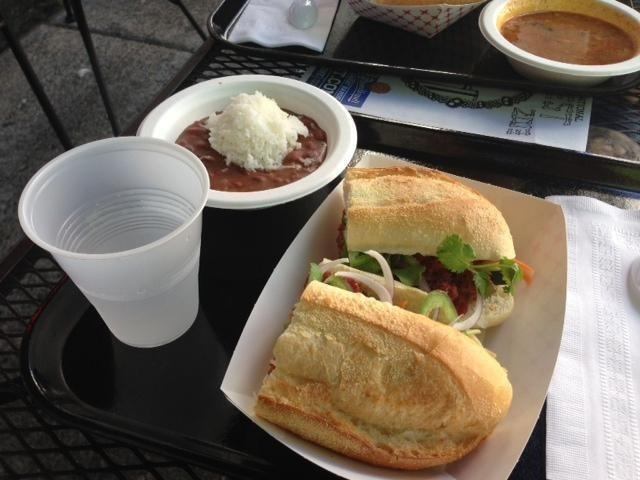cup-disposable: (18, 135, 212, 349)
